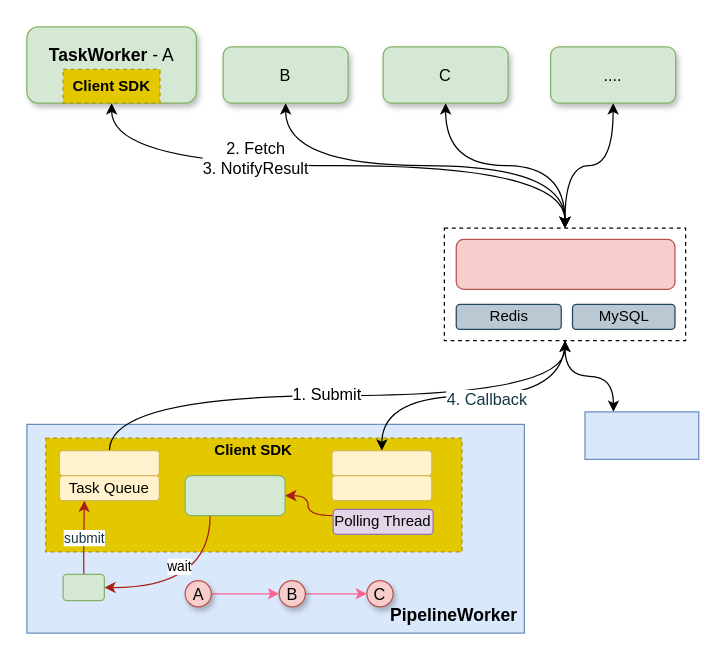
This 721x655 diagram has some shape labels left out. The shapes that lost their labels are listed below. From the top down, each one's centre as x and y in pixels, then its label:
pixel 565 263: Engine
pixel 641 435: FlowWorker2
pixel 108 462: GRPC Client
pixel 381 462: GRPC Server
pixel 234 495: Future Pool
pixel 381 487: Result Queue
pixel 83 587: taskA
